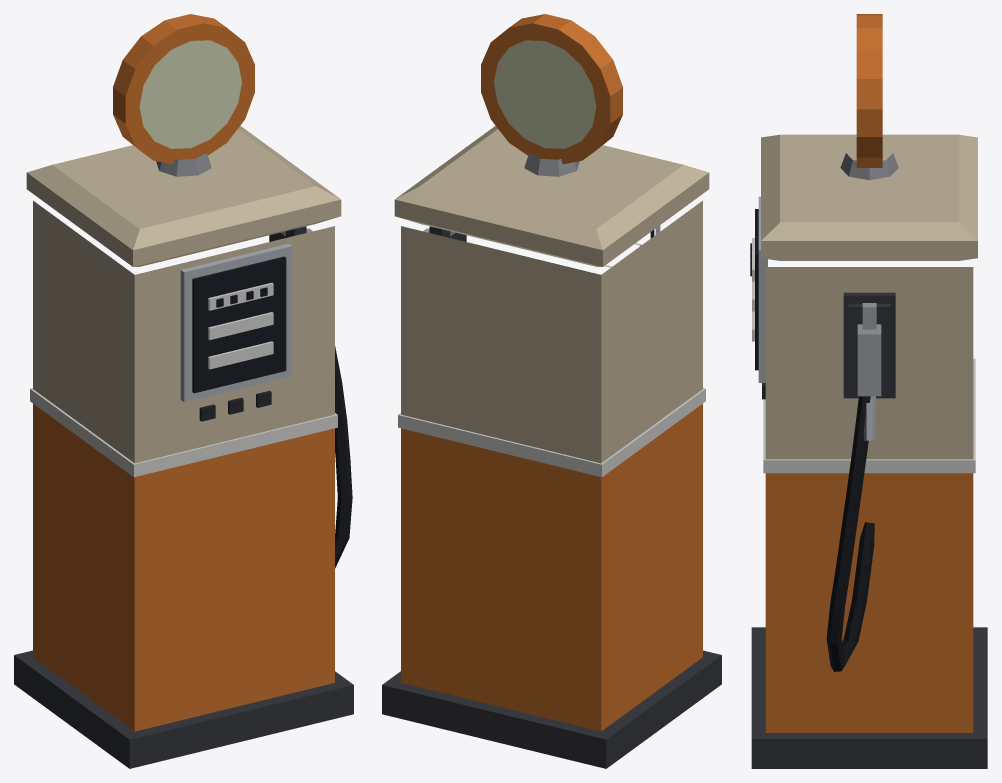
Rendered from gas-pump-5014a8.glb.
3 views of the same model, side by side, from view 1: azimuth 30°, elevation 25°; view 2: azimuth 150°, elevation 25°; view 3: azimuth 270°, elevation 25° (orthographic). The views are drawn at different scales.
Visible parts, largest first — view 1: gas-pump; view 2: gas-pump; view 3: gas-pump, nozzle.
Boxes of the visible parts, x1,y1,x2,y2 form: gas-pump: [14, 14, 353, 768]; gas-pump: [382, 14, 721, 768]; gas-pump: [750, 14, 987, 768]; nozzle: [857, 303, 881, 440].
Size of the model in its own units: 0.6594 by 1.62 by 0.5025.
